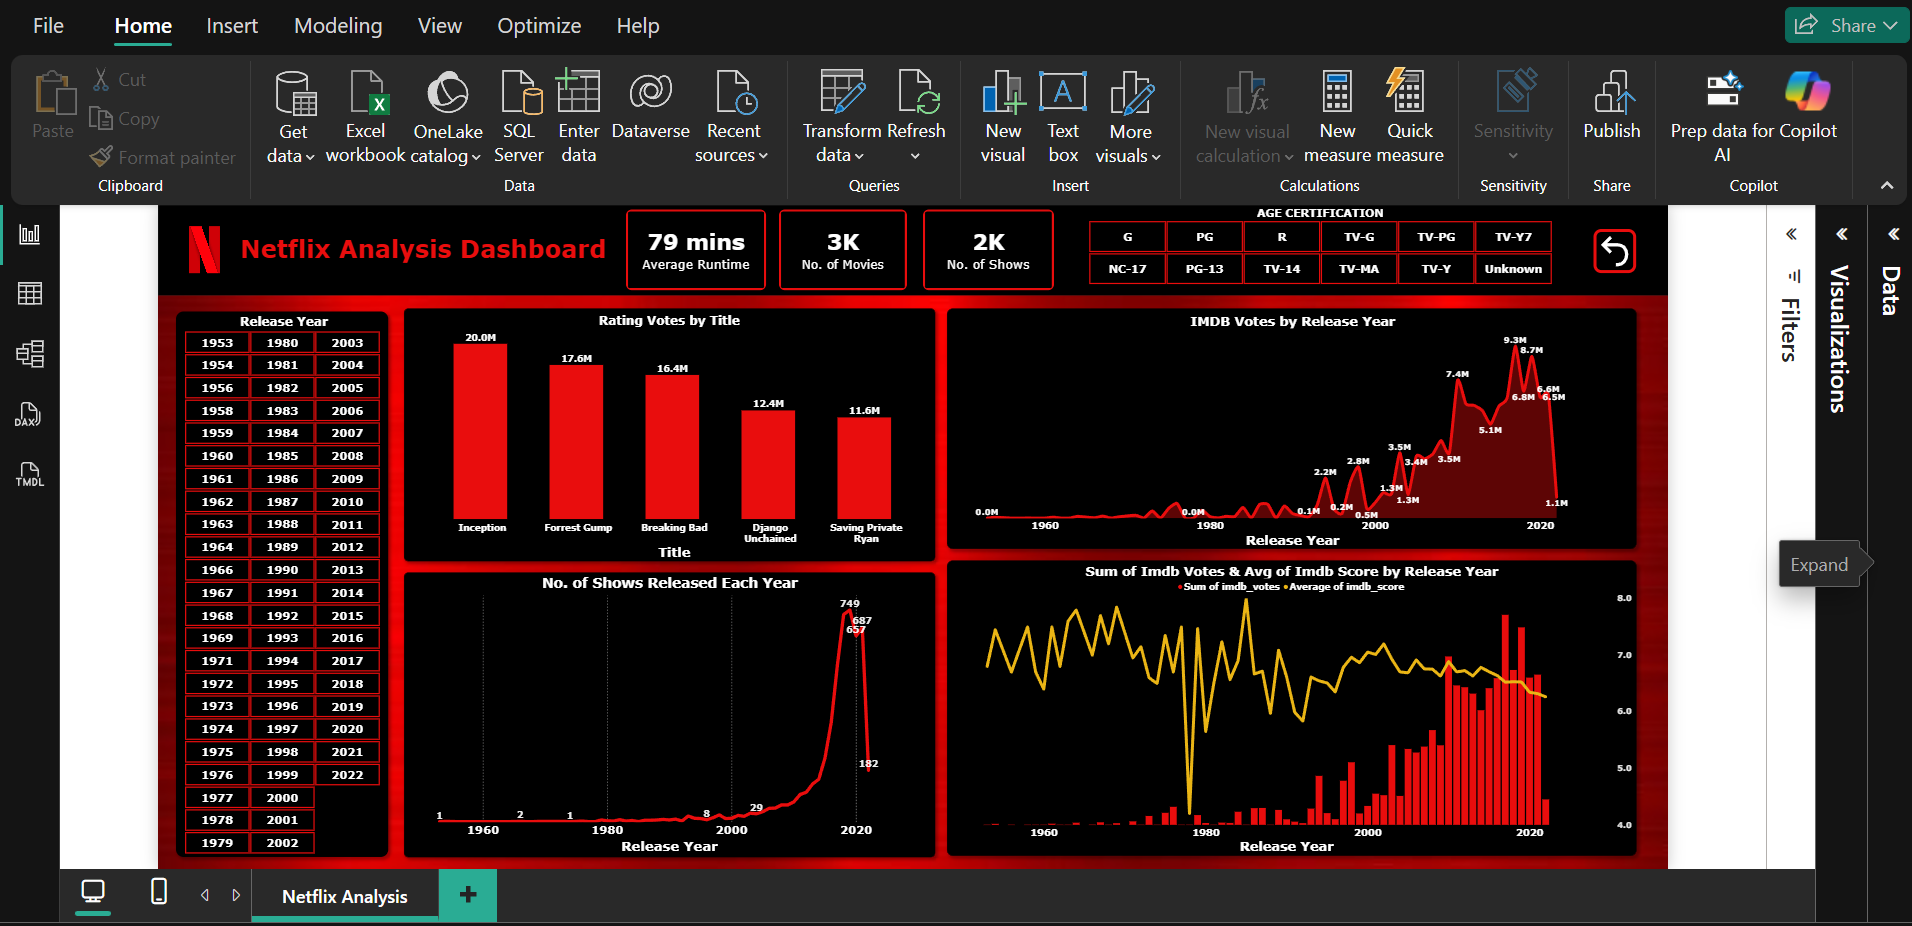

Layout of this report page (visuals, bound fields, positions):
{"tool":"powerbi","page":{"name":"Netflix Analysis","canvas":[5000,2200],"ordinal":0},"visuals":[{"type":"shape","box":[0,0,5503.7,299.6],"z":0},{"type":"image","box":[60.5,65.6,181.6,166.4],"z":1000},{"type":"columnChart","title":"Rating Votes by Title","fields":{"Category":["Netflix TV Shows and Movies.title"],"Y":["Netflix TV Shows and Movies.Rating Votes"]},"box":[817.1,343,1760.3,837.3],"z":2000},{"type":"textbox","title":"     Netflix Analysis Dashboard","box":[242.1,95.8,1271,136.2],"z":3000},{"type":"lineChart","title":"No. of Shows Released Each Year","fields":{"Y":["Netflix TV Shows and Movies.id"],"Category":["Netflix TV Shows and Movies.release_year"]},"box":[817.1,1215.5,1760.3,943.2],"z":4000},{"type":"cardVisual","title":"Average Runtime","fields":{"Data":["Mesure Table.Average Runtime"]},"box":[1548.4,15.1,464,267.3],"z":5000},{"type":"cardVisual","fields":{"Data":["Mesure Table.No. of Movies"]},"box":[2060,15.1,423.7,267.3],"z":6000},{"type":"cardVisual","fields":{"Data":["Mesure Table.No. of Shows"]},"box":[2537,15.1,433.8,267.3],"z":7000},{"type":"slicer","title":"AGE CERTIFICATION","fields":{"Values":["Netflix TV Shows and Movies.age_certification"]},"box":[3061.5,0,1578.7,267.3],"z":8000},{"type":"slicer","title":"Release Year","fields":{"Values":["Netflix TV Shows and Movies.release_year"]},"box":[61.7,351.6,703.1,1807.2],"z":9000},{"type":"lineStackedColumnComboChart","title":"Sum of Imdb Votes & Avg of Imdb Score by Release Year","fields":{"Category":["Netflix TV Shows and Movies.release_year"],"Y":["Netflix TV Shows and Movies.imdb_votes"],"Y2":["Netflix TV Shows and Movies.imdb_score"]},"box":[2612.7,1180.2,2284.8,978.5],"z":10000},{"type":"areaChart","title":"IMDB Votes by Release Year","fields":{"Category":["Netflix TV Shows and Movies.release_year"],"Y":["Netflix TV Shows and Movies.imdb_votes"]},"box":[2612.7,343,2284.8,796.9],"z":11000},{"type":"actionButton","box":[4756.2,80.7,141.2,146.3],"z":12000}]}

Visuals, with their boxes on the page's 5000x2200 design canvas (x1, y1, x2, y2). These are canvas units, not pixel positions in the 1912x926 screenshot, which may show the page scaled, cropped or inside an application window:
shape: (0,0,5504,300)
image: (60,66,242,232)
"Rating Votes by Title" columnChart: (817,343,2577,1180)
"     Netflix Analysis Dashboard" textbox: (242,96,1513,232)
"No. of Shows Released Each Year" lineChart: (817,1216,2577,2159)
"Average Runtime" cardVisual: (1548,15,2012,282)
cardVisual - Mesure Table.No. of Movies: (2060,15,2484,282)
cardVisual - Mesure Table.No. of Shows: (2537,15,2971,282)
"AGE CERTIFICATION" slicer: (3062,0,4640,267)
"Release Year" slicer: (62,352,765,2159)
"Sum of Imdb Votes & Avg of Imdb Score by Release Year" lineStackedColumnComboChart: (2613,1180,4898,2159)
"IMDB Votes by Release Year" areaChart: (2613,343,4898,1140)
actionButton: (4756,81,4897,227)
